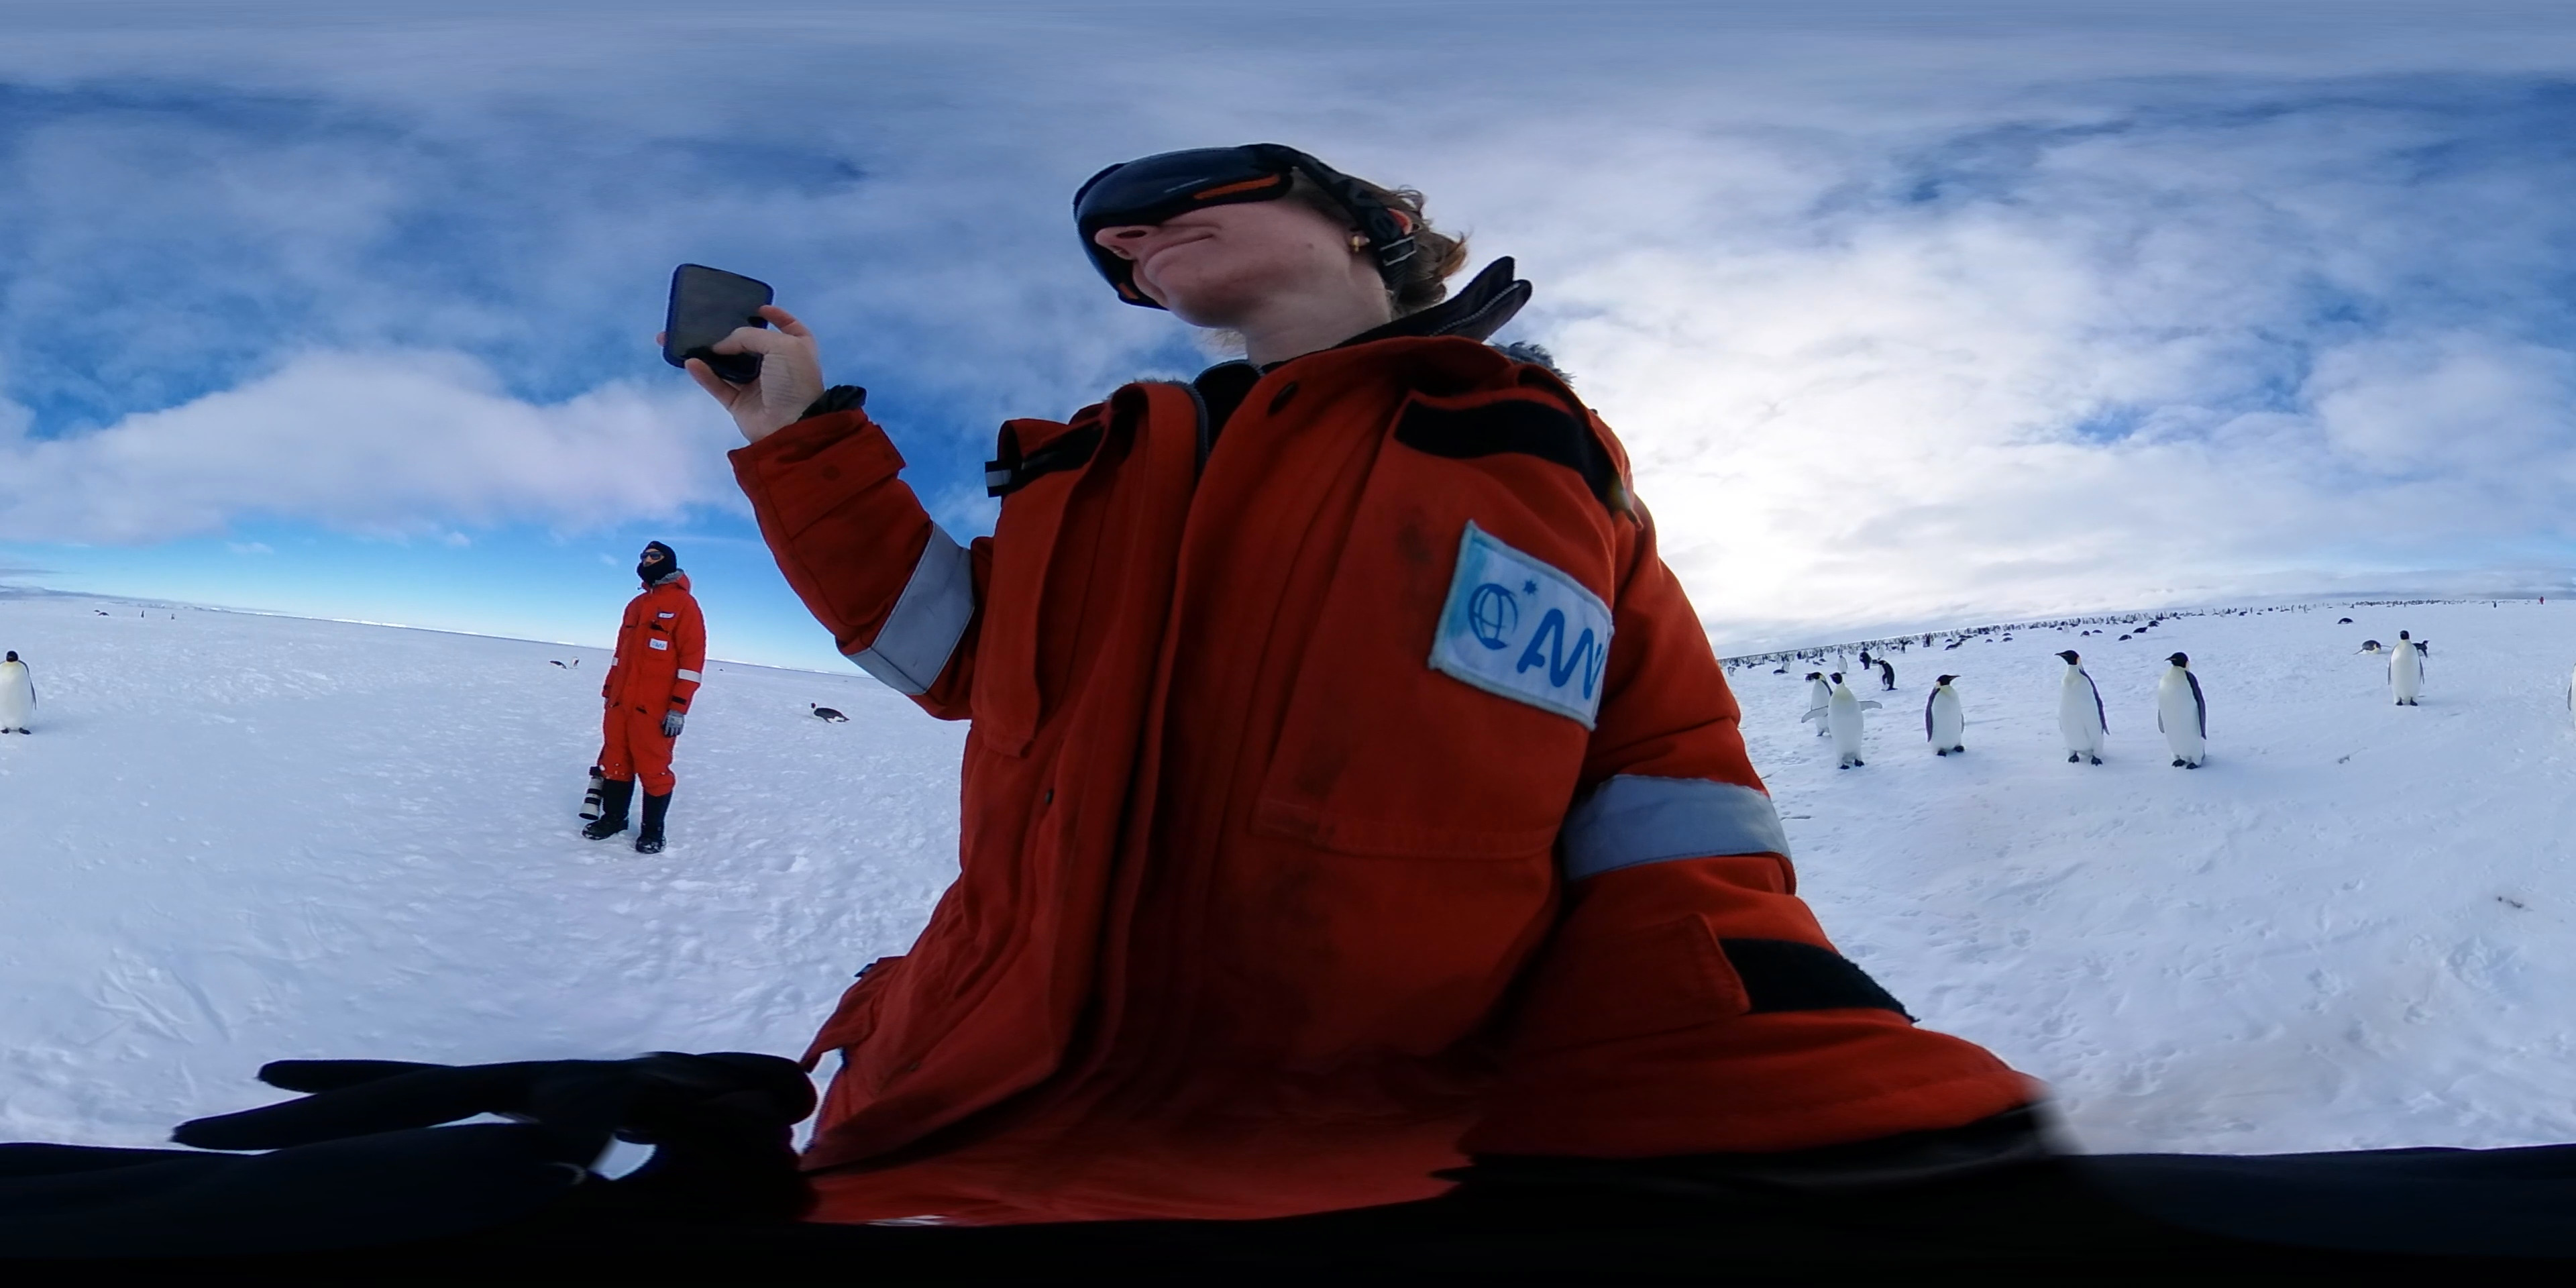adult_standing_penguin: (2152, 649, 2218, 775), (2052, 647, 2121, 767), (1799, 669, 1873, 770), (1925, 669, 1973, 761), (0, 646, 43, 741), (2387, 629, 2428, 710), (1804, 670, 1842, 739), (1874, 659, 1902, 693), (1833, 652, 1848, 674)
adult_toboggan_penguin: (805, 698, 851, 724), (2353, 641, 2389, 654), (2407, 639, 2433, 655), (549, 657, 567, 672), (2334, 616, 2354, 626), (2116, 632, 2136, 642)
researcher: (655, 130, 2058, 1288), (577, 532, 711, 858)
